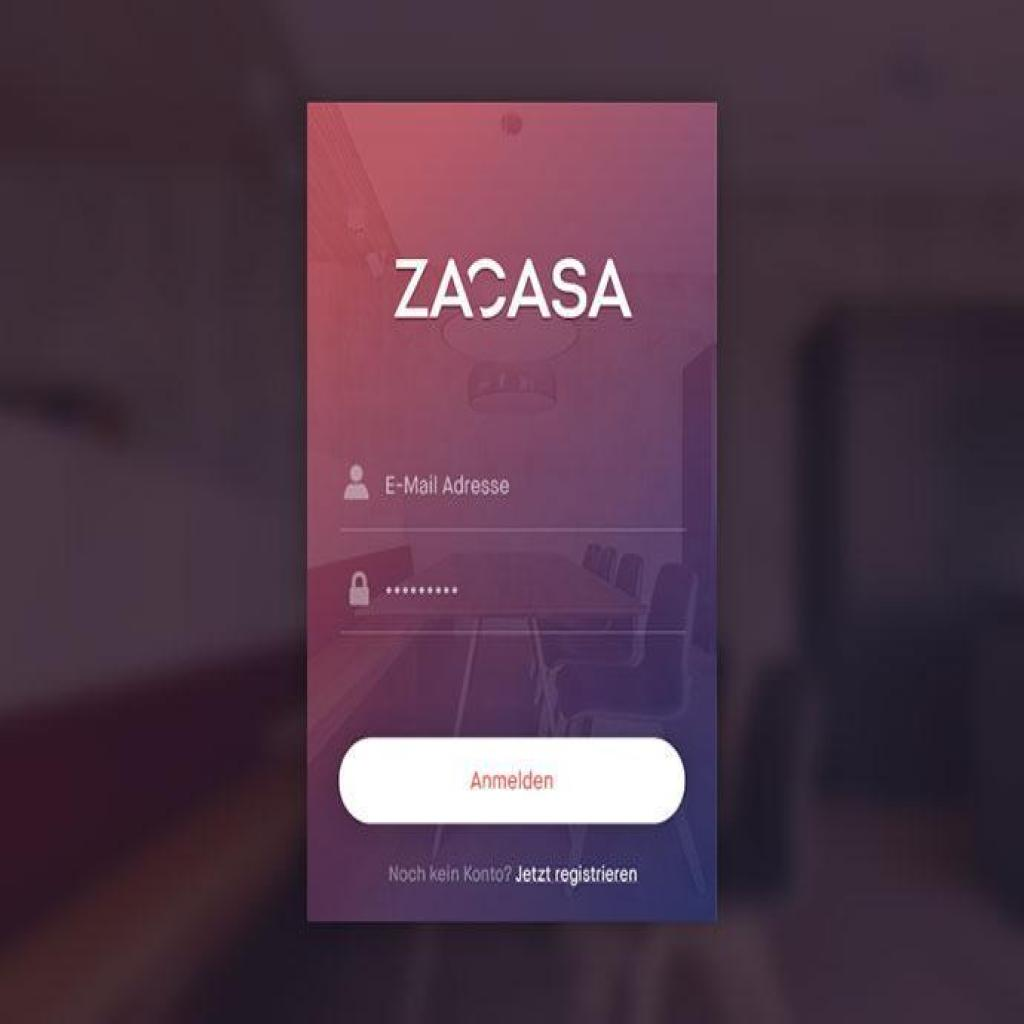button: (340, 736, 686, 822)
label: (384, 243, 640, 340)
